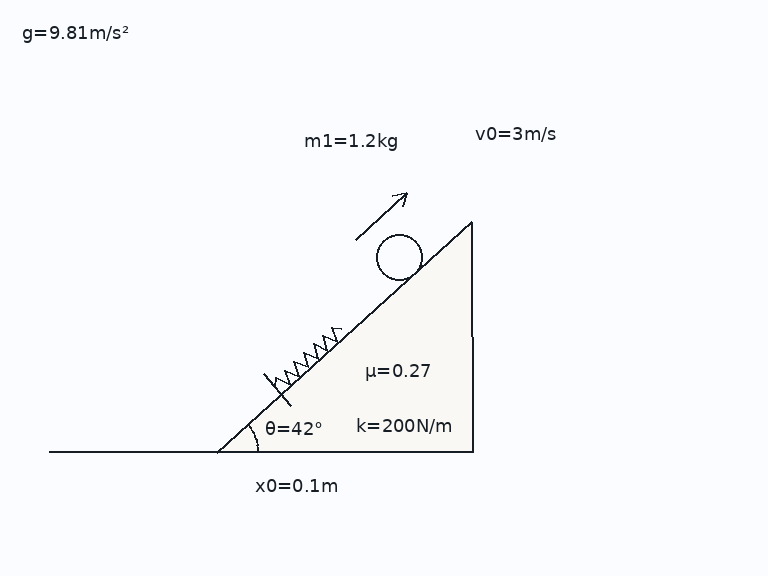ball: (374, 232, 424, 282)
ramp: (216, 220, 474, 453)
spring: (274, 325, 344, 389)
